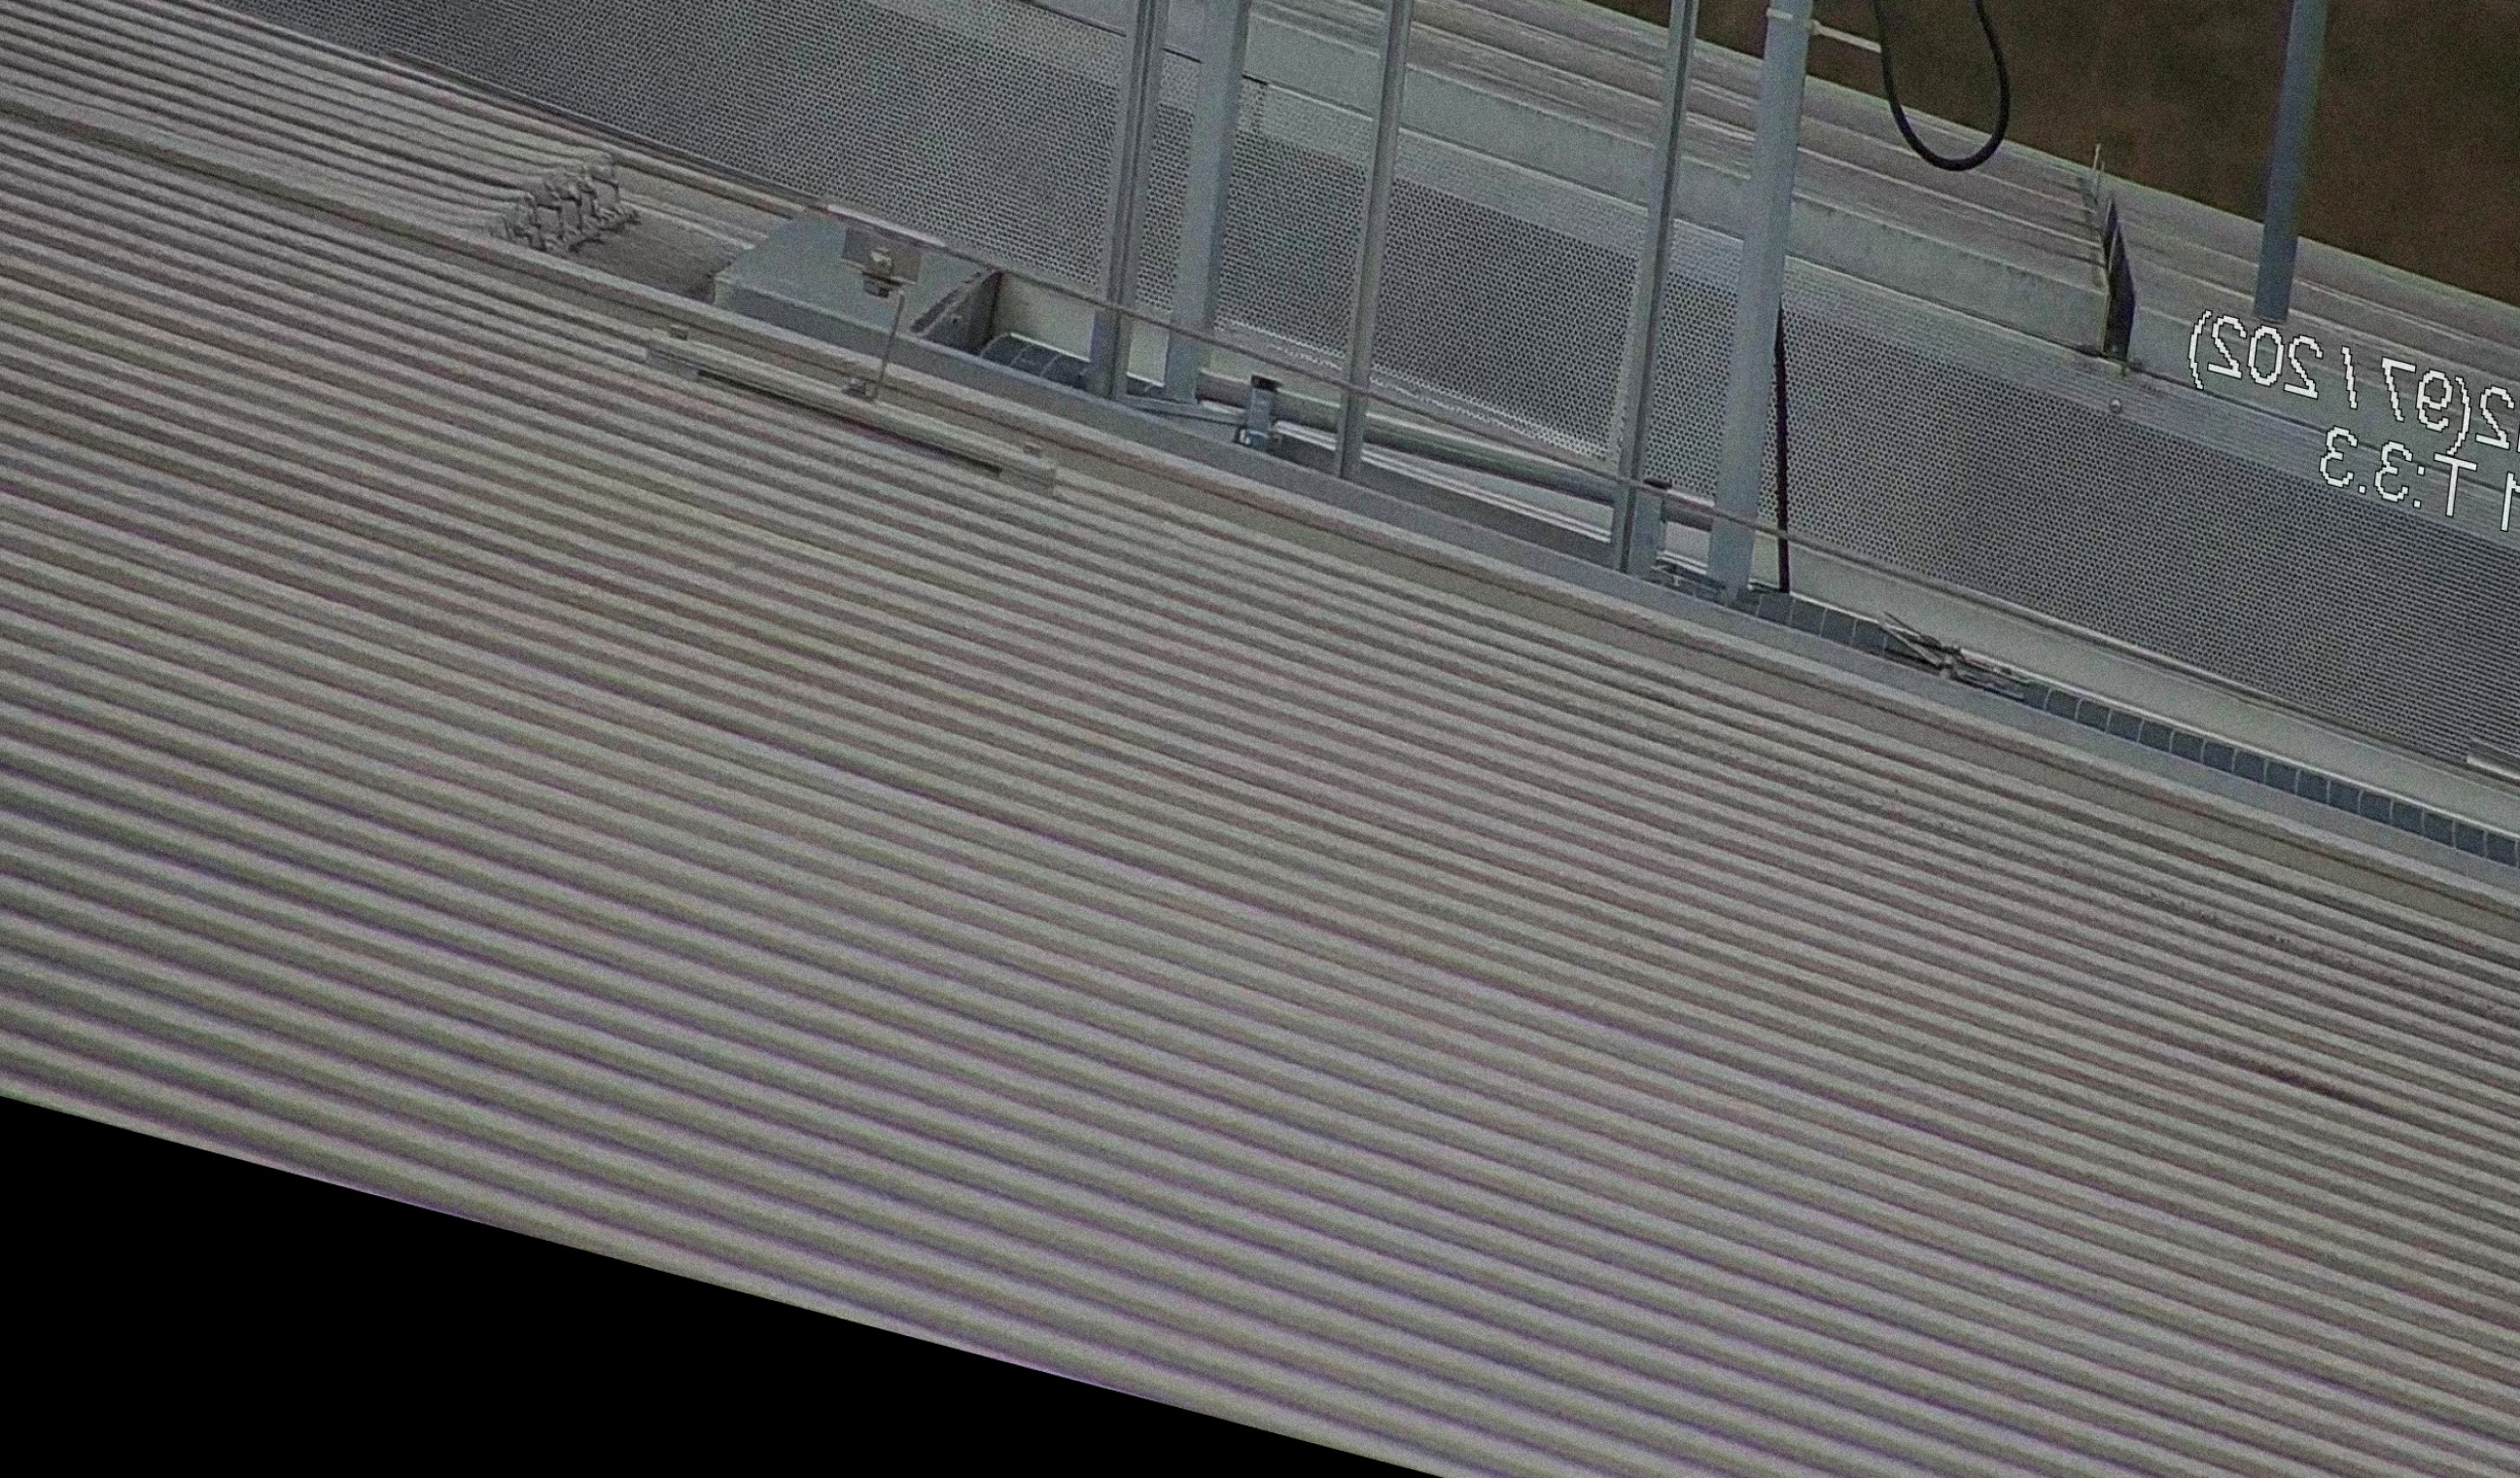Other: (951, 0, 1089, 28)
